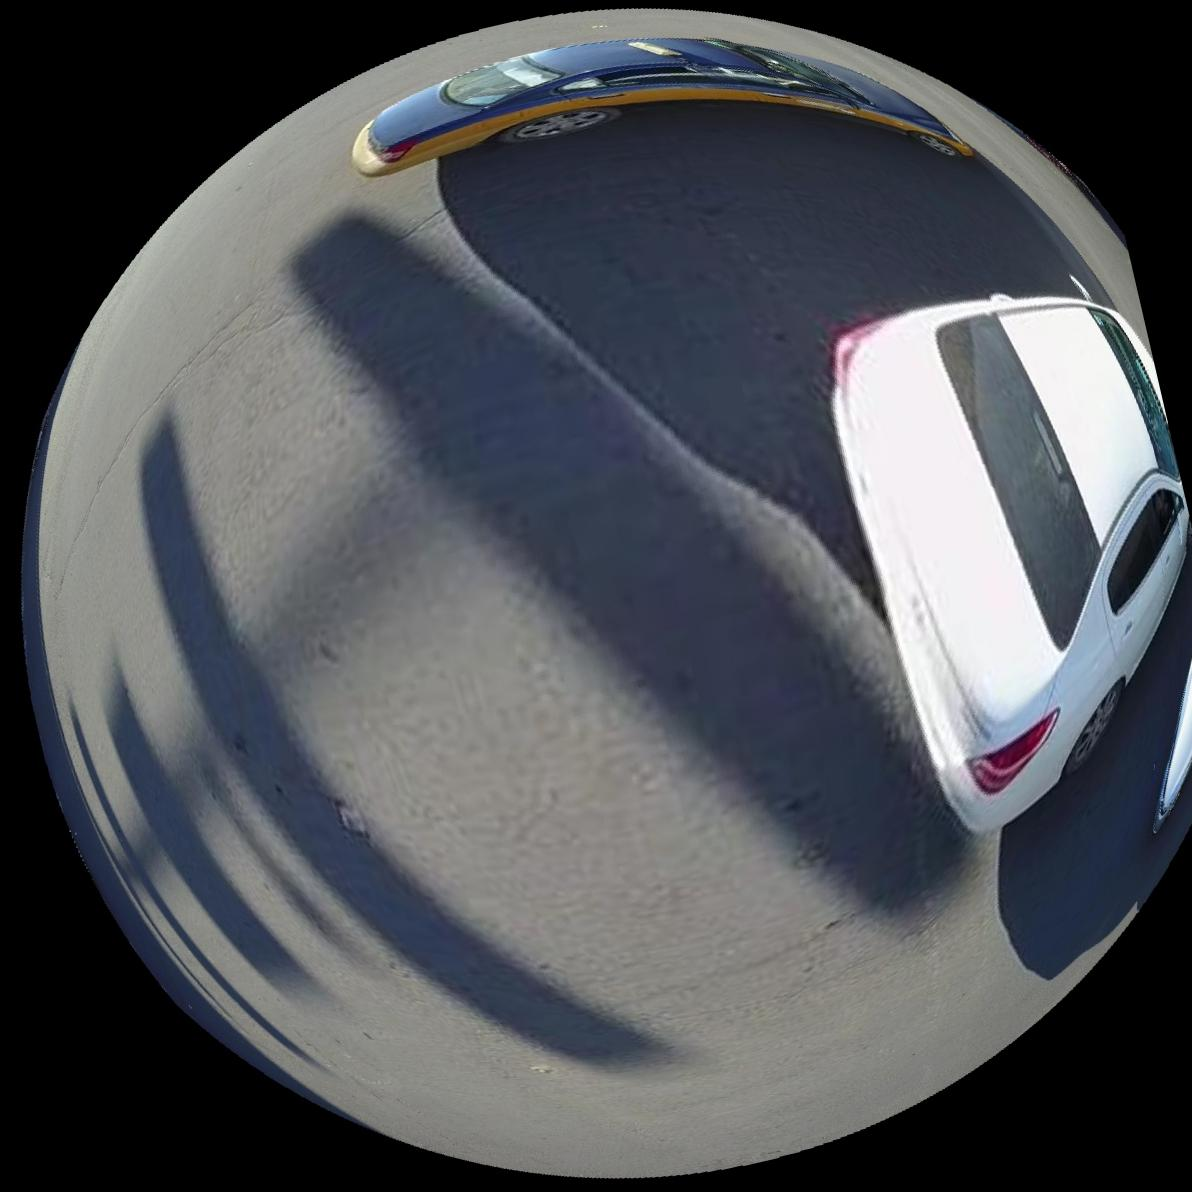cars: (832, 296, 1192, 833), (349, 34, 974, 175), (1155, 665, 1192, 832)
